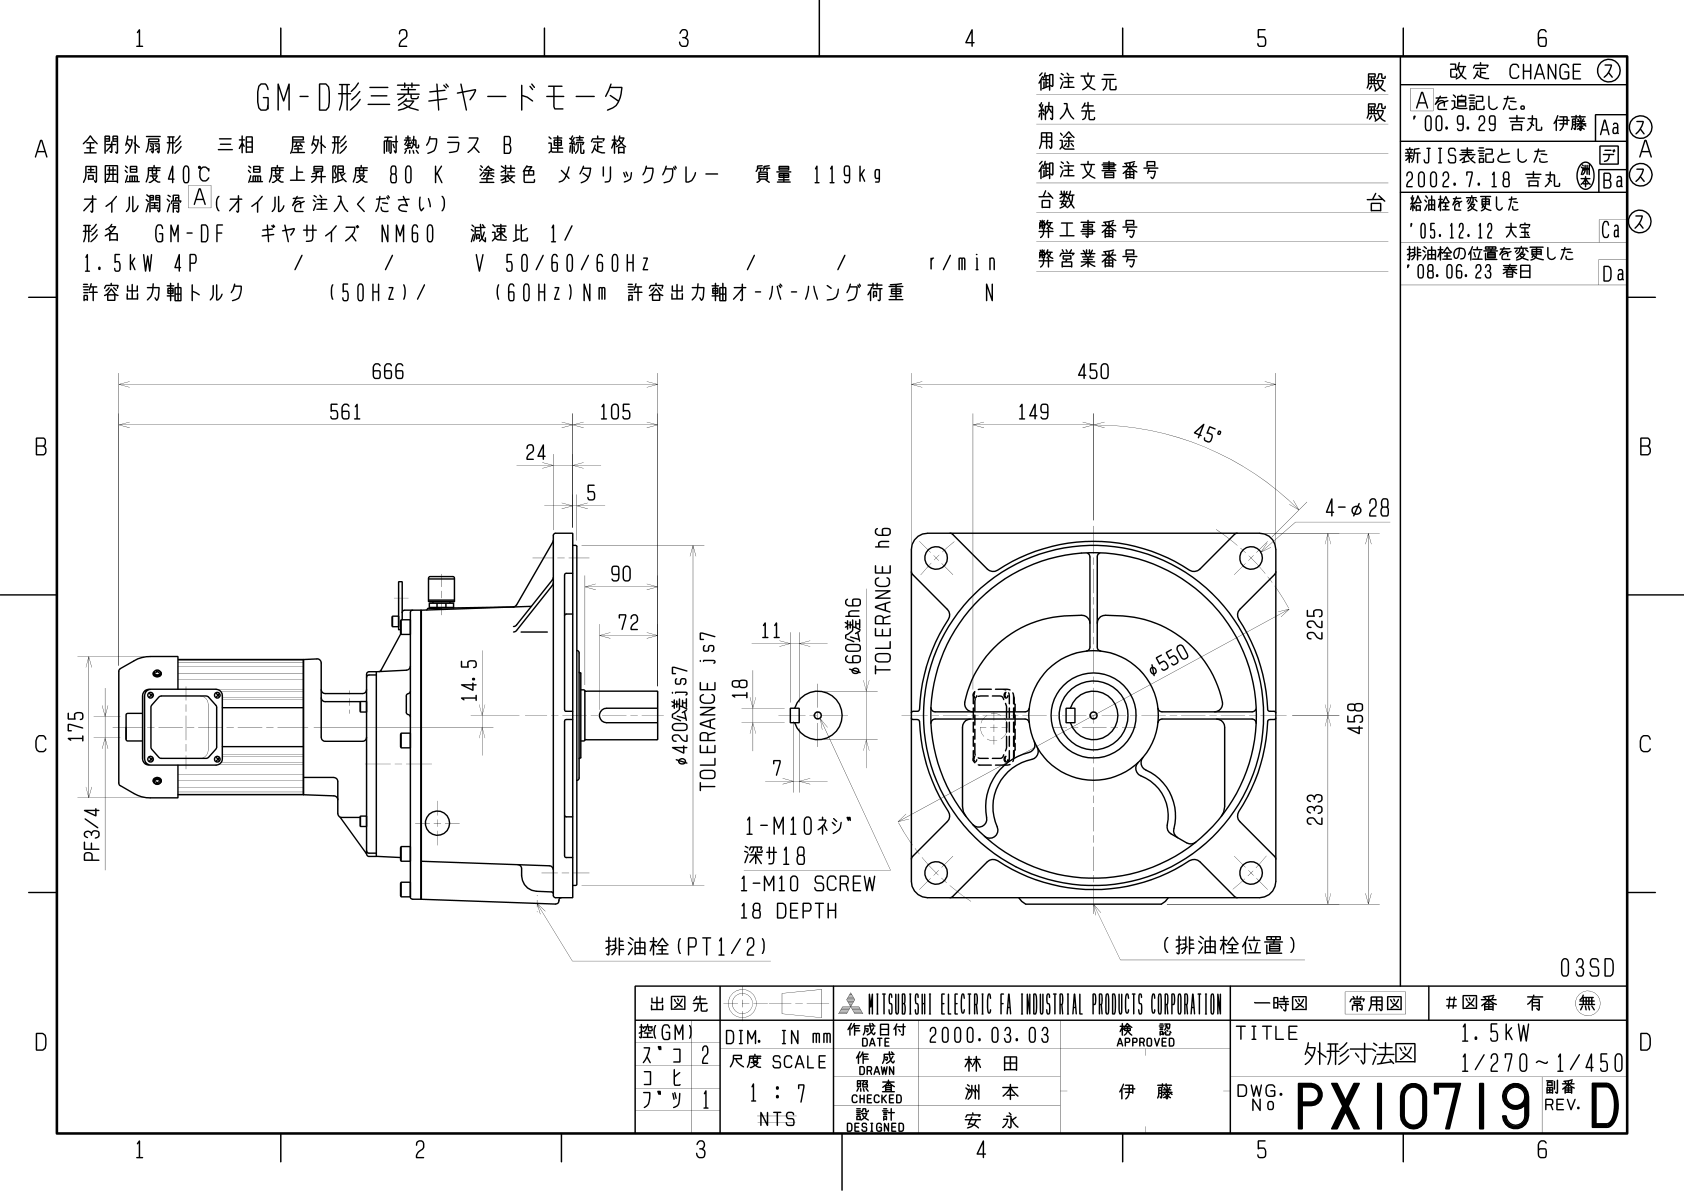GM_D_屋外＿三相_フランジ: (64, 342, 1386, 965)
